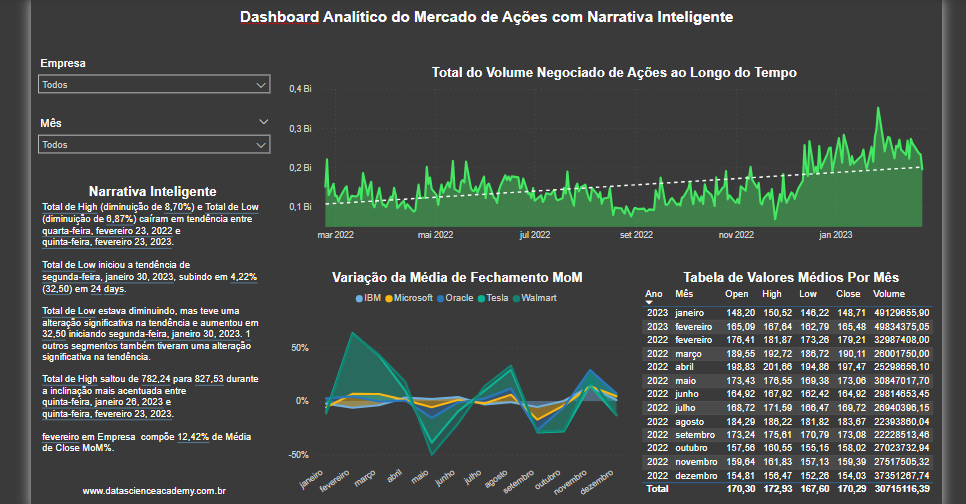

Layout of this report page (visuals, bound fields, positions):
{"tool":"powerbi","page":{"name":"Dashboard","canvas":[1280,720],"ordinal":0},"visuals":[{"type":"areaChart","title":"Total do Volume Negociado de Ações ao Longo do Tempo","fields":{"Category":["StockMarket.Data.Variation.Hierarquia de datas.Ano","StockMarket.Data.Variation.Hierarquia de datas.Trimestre","StockMarket.Data.Variation.Hierarquia de datas.Mês","StockMarket.Data.Variation.Hierarquia de datas.Dia"],"Y":["Sum(StockMarket.Volume)"]},"box":[357.2,94.1,922.8,254.8],"z":0},{"type":"stackedAreaChart","title":"Variação da Média de Fechamento MoM","fields":{"Category":["StockMarket.Data.Variation.Hierarquia de datas.Mês"],"Y":["StockMarket.Média de Close MoM%"],"Series":["StockMarket.Empresa"]},"box":[356.6,381.1,486.1,339.5],"z":1000},{"type":"tableEx","title":"Tabela de Valores Médios Por Mês","fields":{"Values":["StockMarket.Data.Variation.Hierarquia de datas.Ano","StockMarket.Data.Variation.Hierarquia de datas.Mês","Avg(StockMarket.Open)","Avg(StockMarket.High)","Avg(StockMarket.Low)","Avg(StockMarket.Close)","Avg(StockMarket.Volume)"]},"box":[851.3,381.1,431.1,342],"z":2000},{"type":"slicer","fields":{"Values":["StockMarket.Empresa"]},"box":[0,76.9,345.6,84.3],"z":3000},{"type":"slicer","fields":{"Values":["StockMarket.Data.Variation.Hierarquia de datas.Mês"]},"box":[0,161.2,345.6,83.1],"z":4000},{"type":"textbox","box":[0,8.6,1279.9,59.9],"z":5000},{"type":"textbox","title":"Narrativa Inteligente","box":[11,260.4,320.3,459.6],"z":6000},{"type":"textbox","box":[0,679.8,346.1,40.2],"z":7000}]}

Visuals, with their boxes on the page's 1280x720 design canvas (x1, y1, x2, y2). These are canvas units, not pixel positions in the 966x504 screenshot, which may show the page scaled, cropped or inside an application window:
"Total do Volume Negociado de Ações ao Longo do Tempo" areaChart: 357,94,1280,349
"Variação da Média de Fechamento MoM" stackedAreaChart: 357,381,843,721
"Tabela de Valores Médios Por Mês" tableEx: 851,381,1282,723
slicer - StockMarket.Empresa: 0,77,346,161
slicer - StockMarket.Data.Variation.Hierarquia de datas.Mês: 0,161,346,244
textbox: 0,9,1280,68
"Narrativa Inteligente" textbox: 11,260,331,720
textbox: 0,680,346,720
